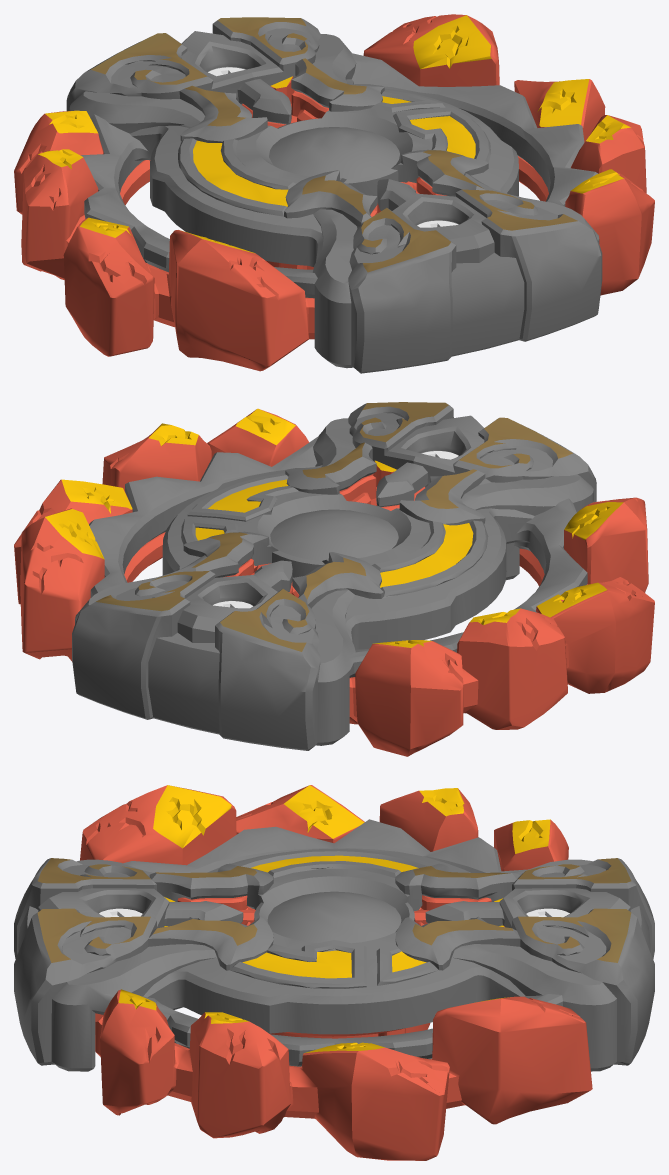
File: Gaianon2Geo.fbx
The picture shows the model from 3 angles, top to bottom: view 1: azimuth 30°, elevation 25°; view 2: azimuth 150°, elevation 25°; view 3: azimuth 270°, elevation 25°; orthographic projection. The views are drawn at different scales.
Parts seen in each view (by area): view 1: Gaianon2Geo; view 2: Gaianon2Geo; view 3: Gaianon2Geo.
Part boxes in pixels (left/top/right/bottom): Gaianon2Geo: left=14, top=14, right=654, bottom=373; Gaianon2Geo: left=14, top=402, right=654, bottom=756; Gaianon2Geo: left=14, top=785, right=654, bottom=1160.
Size of the model in its own units: 0.492 by 0.1102 by 0.4788.
3 materials, 1 textured.
